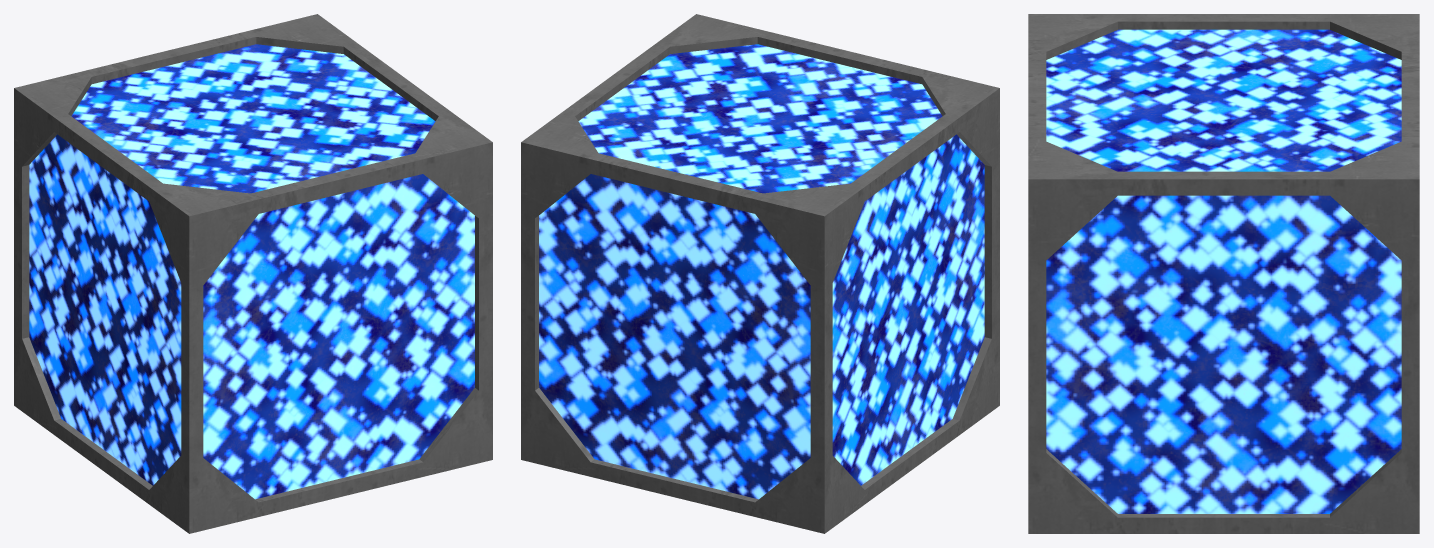
The picture shows the model from 3 angles, left to right: view 1: azimuth 30°, elevation 25°; view 2: azimuth 150°, elevation 25°; view 3: azimuth 270°, elevation 25°; orthographic projection. The views are drawn at different scales.
Visible parts, largest first — view 1: Cube.001; view 2: Cube.001; view 3: Cube.001.
Boxes of the visible parts, box(x1,y1,x2,y2) form: Cube.001: box(14, 14, 492, 533); Cube.001: box(521, 14, 999, 533); Cube.001: box(1028, 14, 1419, 533).
Bounding box in the file's own units: 100 × 100 × 100.
1 material, 1 textured.
